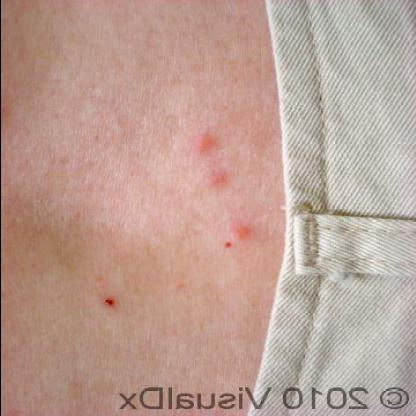Bed Bug: (217, 221, 253, 254), (187, 128, 223, 156), (204, 169, 233, 191), (95, 290, 118, 311)
